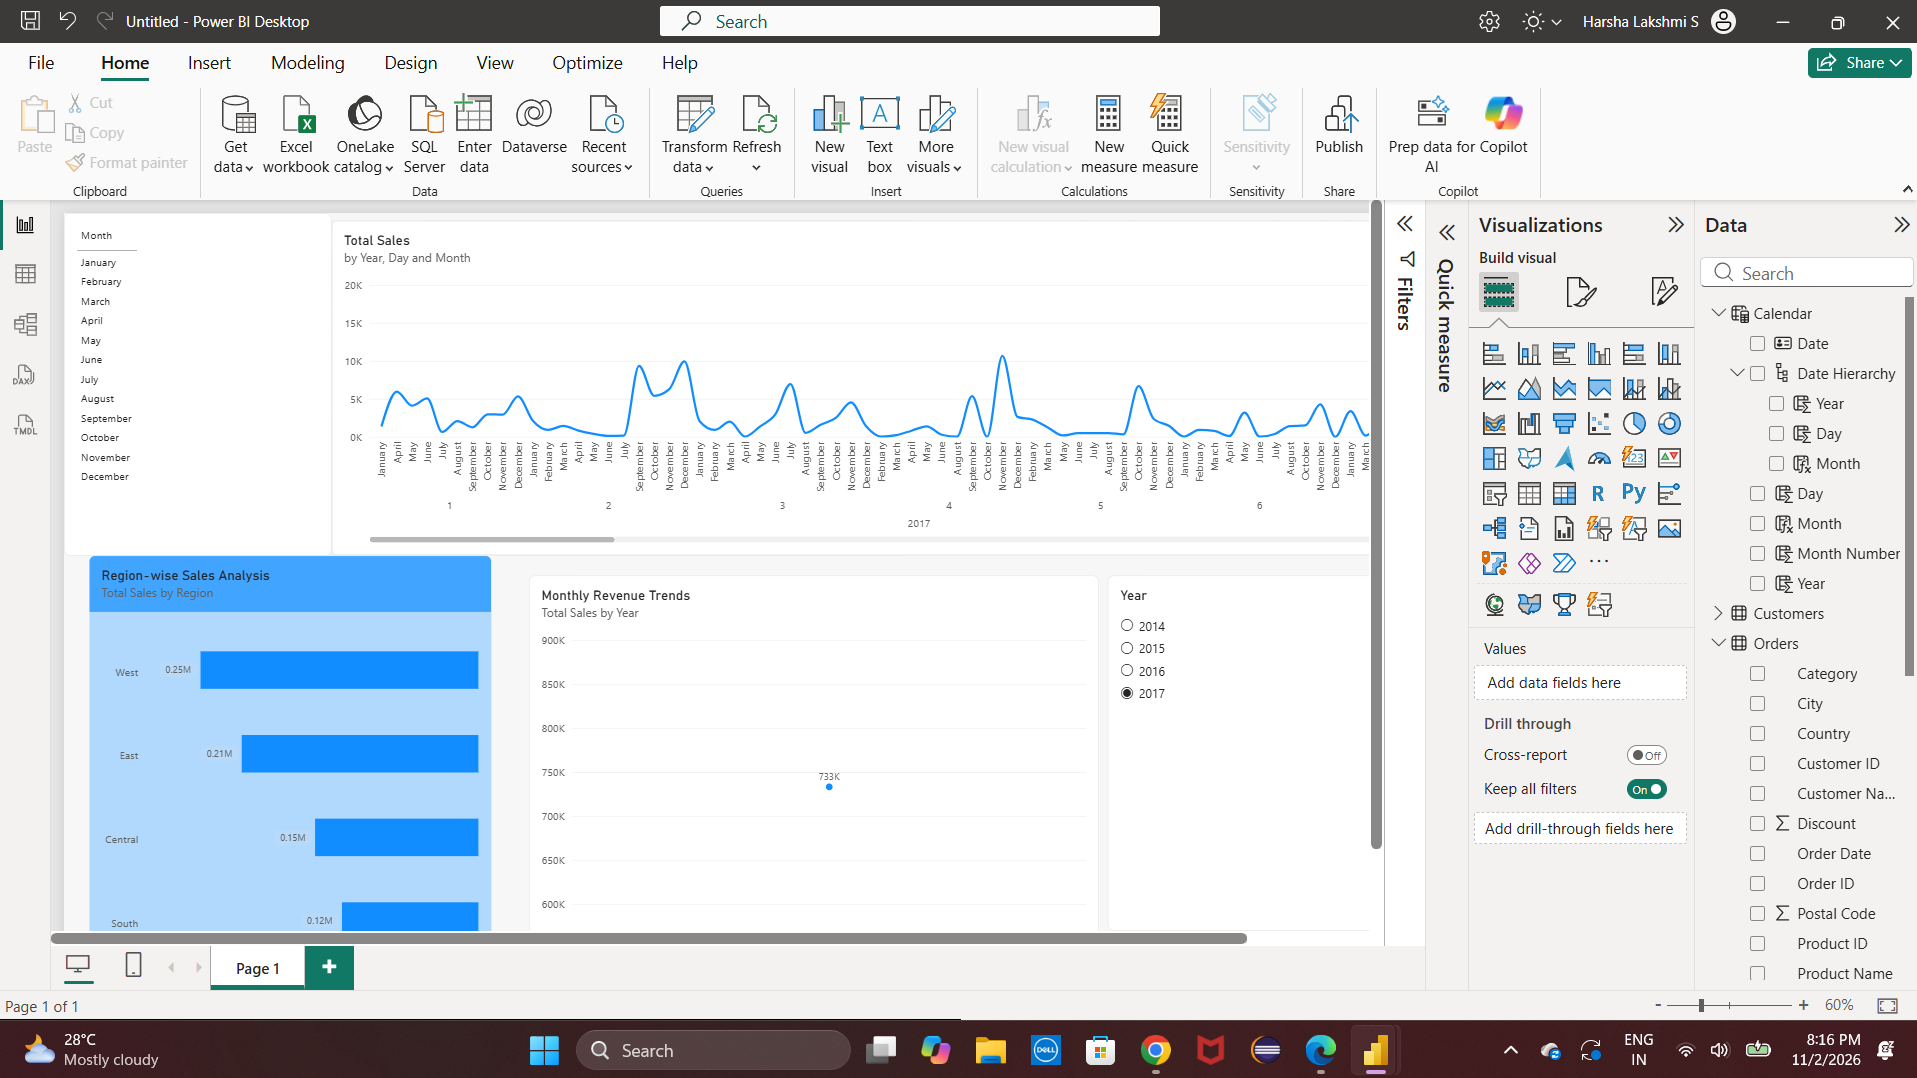

What the dashboard file says about the page in this screenshot:
{"tool":"powerbi","page":{"name":"Page 1","canvas":[1920,1080],"ordinal":0},"visuals":[{"type":"tableEx","fields":{"Values":["Calendar.Month"]},"box":[0,0,356.7,456.7],"z":0},{"type":"clusteredBarChart","title":"Region-wise Sales Analysis","fields":{"Category":["Regions.Region"],"Y":["Orders.Measure"]},"box":[33.3,456.7,536.7,580],"z":1},{"type":"lineChart","fields":{"Category":["Calendar.Date Hierarchy.Year","Calendar.Date Hierarchy.Day","Calendar.Date Hierarchy.Month"],"Y":["Orders.Measure"]},"box":[356.7,10,1533.3,446.7],"z":2},{"type":"lineChart","title":"Monthly Revenue Trends","fields":{"Category":["Calendar.Date Hierarchy.Year","Calendar.Date Hierarchy.Day","Calendar.Date Hierarchy.Month"],"Y":["Orders.Total Sales"]},"box":[620,483.3,760,553.3],"z":3},{"type":"listSlicer","fields":{"Values":["Calendar.Year"]},"box":[1391.7,483.3,485,473.3],"z":4}]}

Visuals, with their boxes in screenshot pixels (x1, y1, x2, y2):
tableEx - Calendar.Month: (x1=55, y1=30, x2=394, y2=464)
"Region-wise Sales Analysis" clusteredBarChart: (x1=87, y1=464, x2=596, y2=1015)
lineChart - Calendar.Date Hierarchy.Year x Calendar.Date Hierarchy.Day: (x1=394, y1=39, x2=1850, y2=464)
"Monthly Revenue Trends" lineChart: (x1=644, y1=489, x2=1366, y2=1014)
listSlicer - Calendar.Year: (x1=1377, y1=489, x2=1837, y2=938)
